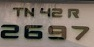character: (47, 24, 67, 41), (23, 23, 44, 39), (71, 24, 90, 41), (1, 23, 20, 39), (67, 7, 80, 19), (23, 6, 35, 17), (39, 6, 51, 17), (51, 7, 63, 18), (12, 6, 23, 17)
